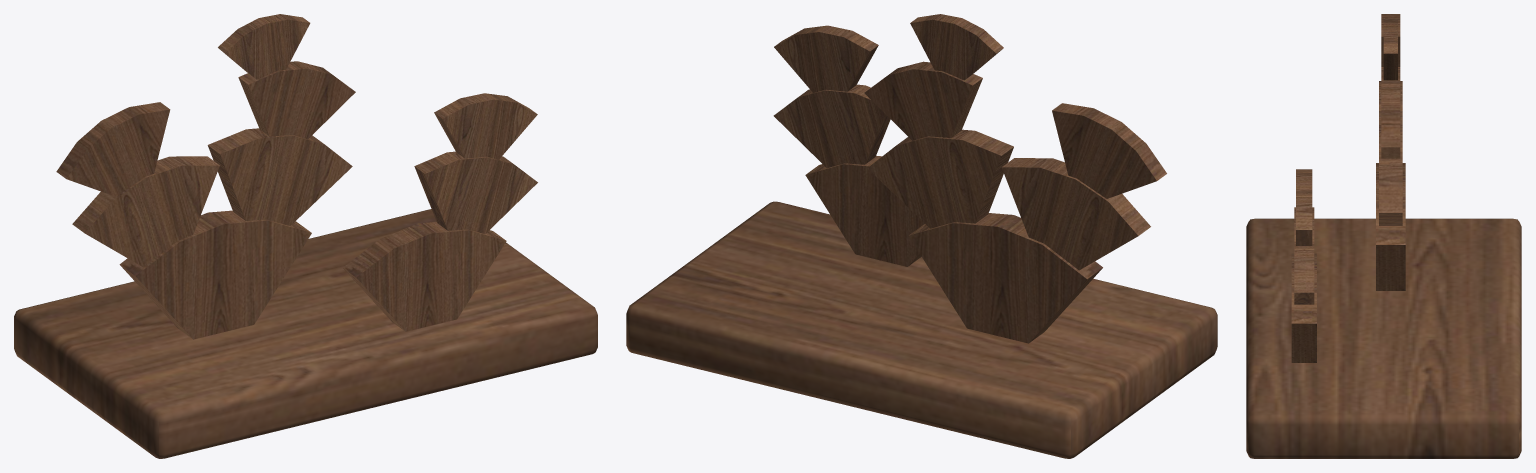
Rendered from wood showpiece2.FBX.
The picture shows the model from 3 angles, left to right: view 1: azimuth 30°, elevation 25°; view 2: azimuth 150°, elevation 25°; view 3: azimuth 270°, elevation 25°; orthographic projection. The views are drawn at different scales.
Parts seen in each view (by area): view 1: wood showpiece2; view 2: wood showpiece2; view 3: wood showpiece2.
Boxes of the visible parts, box(x1,y1,x2,y2) form: wood showpiece2: box(14, 14, 597, 458); wood showpiece2: box(626, 14, 1217, 458); wood showpiece2: box(1246, 14, 1521, 458).
Bounding box in the file's own units: 7.77 × 4.29 × 5.48.
1 material, 1 textured.
